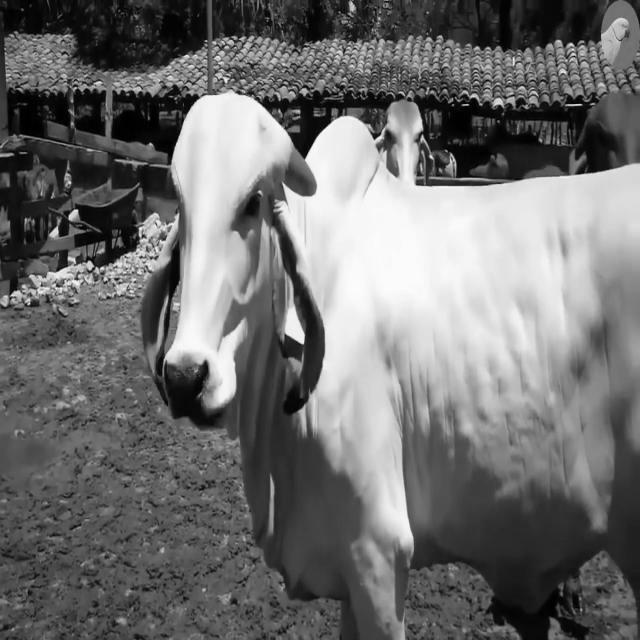cow: (145, 94, 640, 640)
